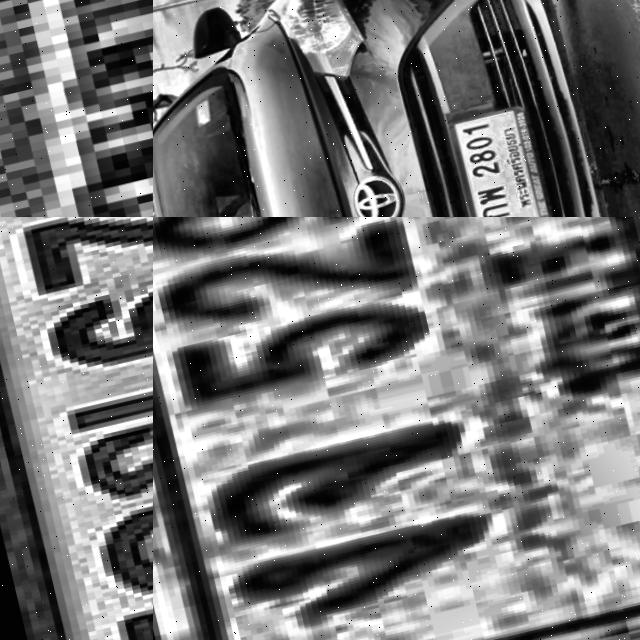license-plate: (153, 217, 640, 640), (0, 217, 153, 640), (0, 0, 153, 217), (443, 101, 555, 217)
